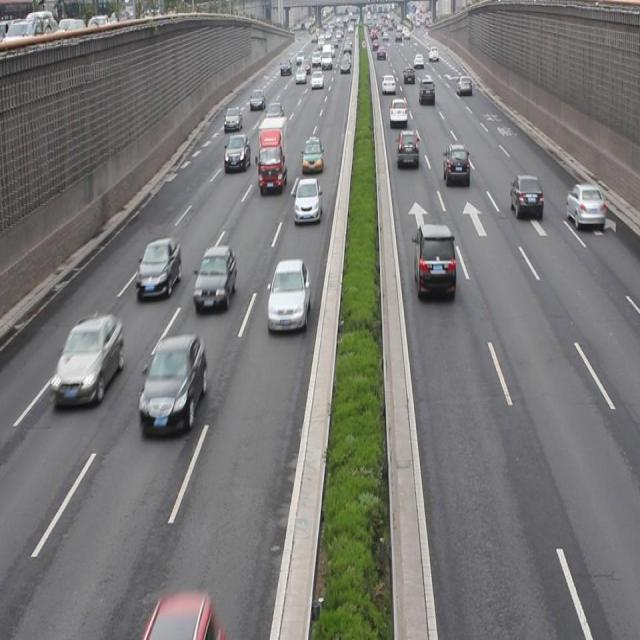bus: (258, 118, 288, 190)
car: (52, 314, 123, 407), (138, 335, 206, 432), (267, 260, 312, 330), (414, 222, 454, 299), (193, 244, 236, 313), (136, 238, 181, 299), (566, 181, 605, 228), (509, 172, 542, 221), (442, 142, 470, 187), (294, 177, 321, 220), (224, 132, 249, 170), (396, 128, 419, 166), (300, 136, 322, 173), (388, 97, 407, 125), (224, 105, 242, 132)
